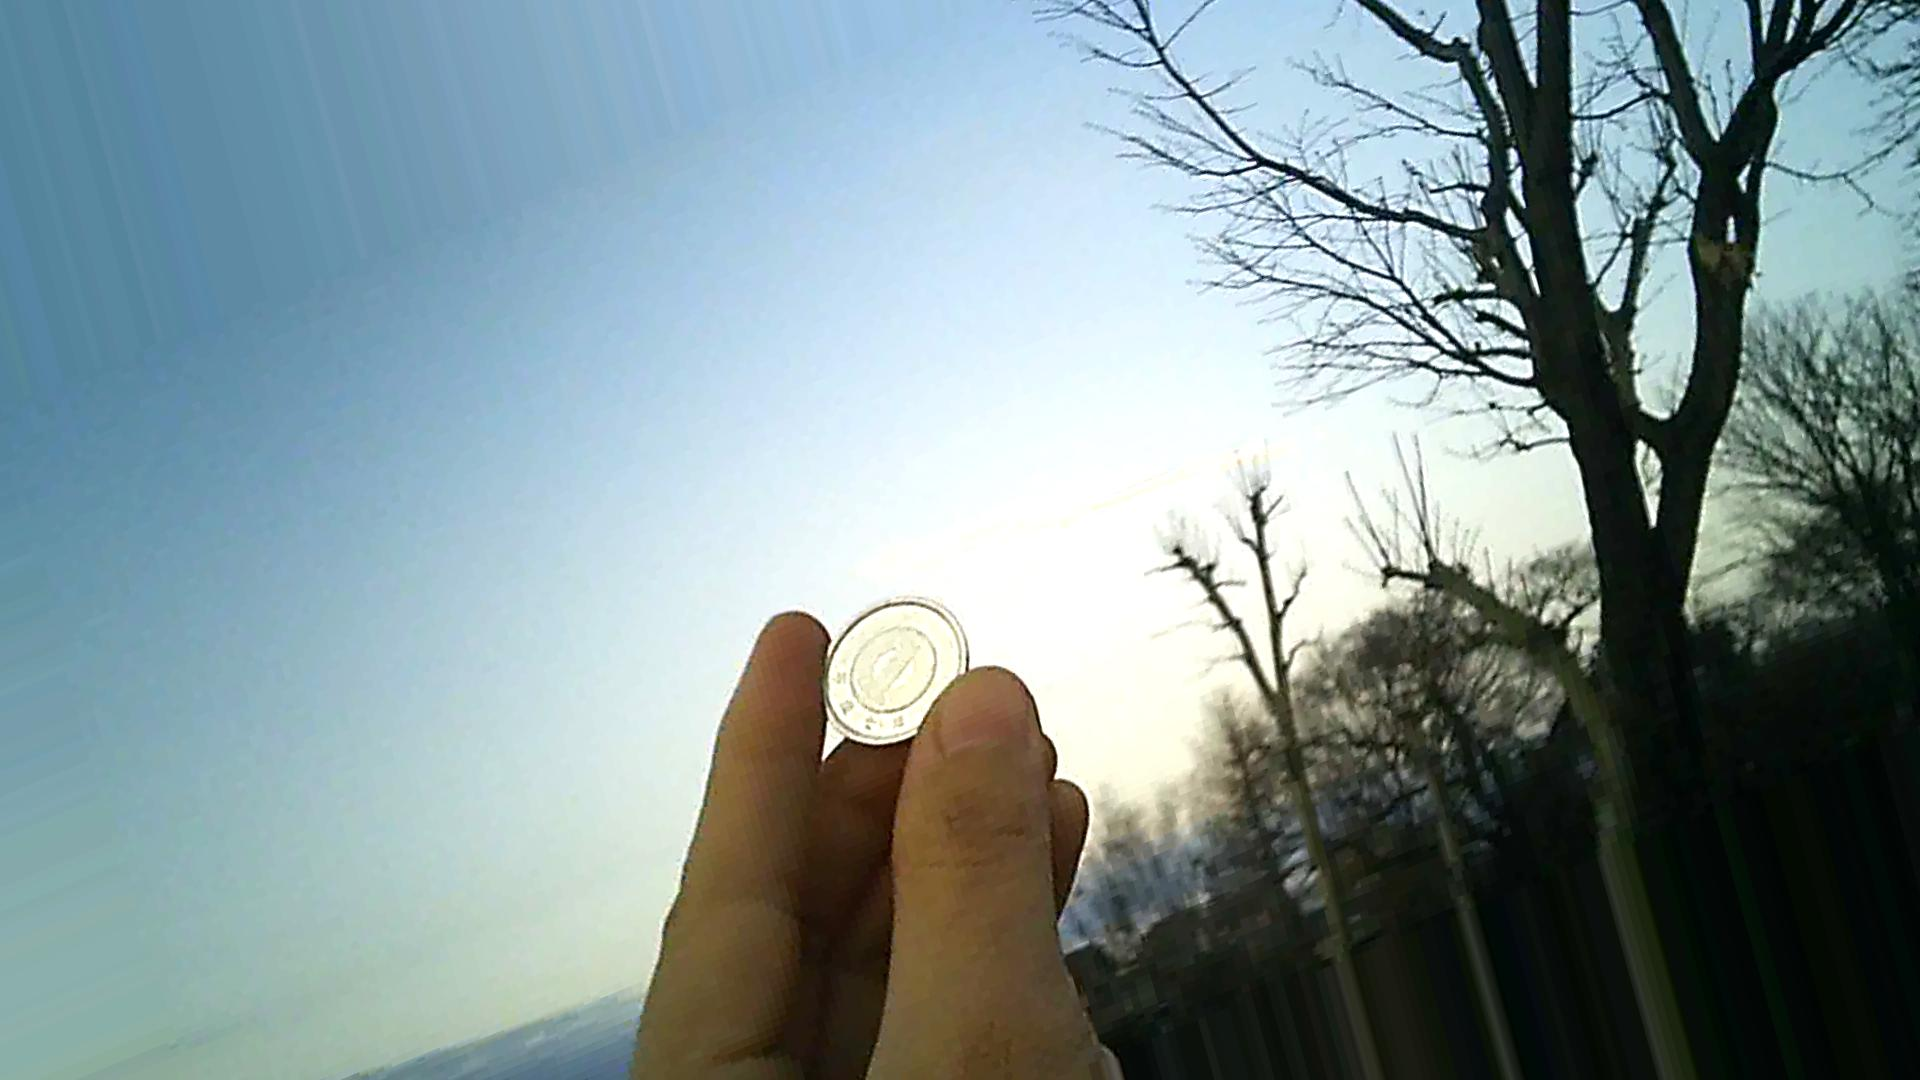1 Yen: (800, 584, 973, 760)
